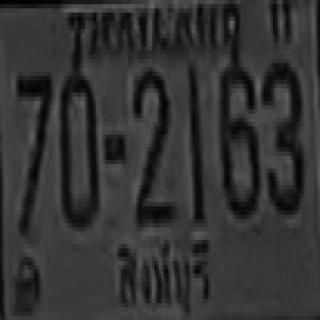N00: (59, 72, 97, 223)
N01: (187, 63, 203, 219)
N02: (132, 65, 170, 221)
N03: (260, 59, 302, 210)
N06: (217, 59, 257, 215)
N07: (16, 72, 51, 232)
P62: (110, 232, 222, 318)
